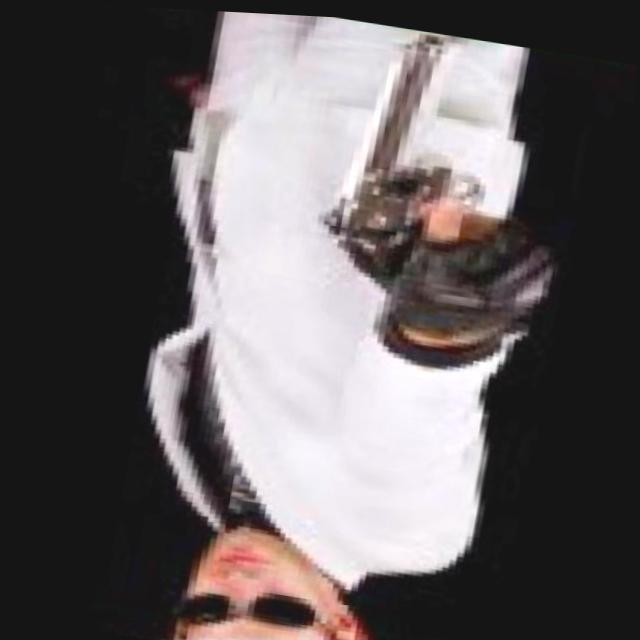gun: (294, 20, 530, 292)
